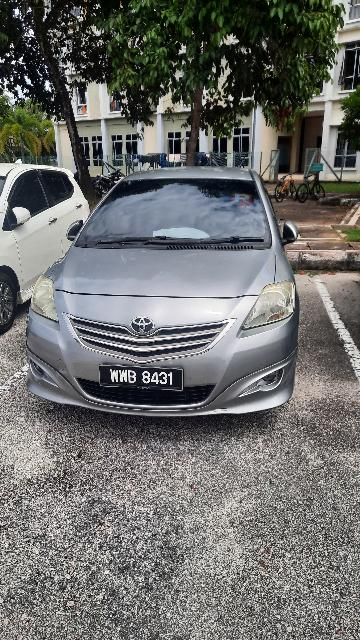License_Plate: (91, 358, 193, 397)
car: (29, 157, 309, 432)
